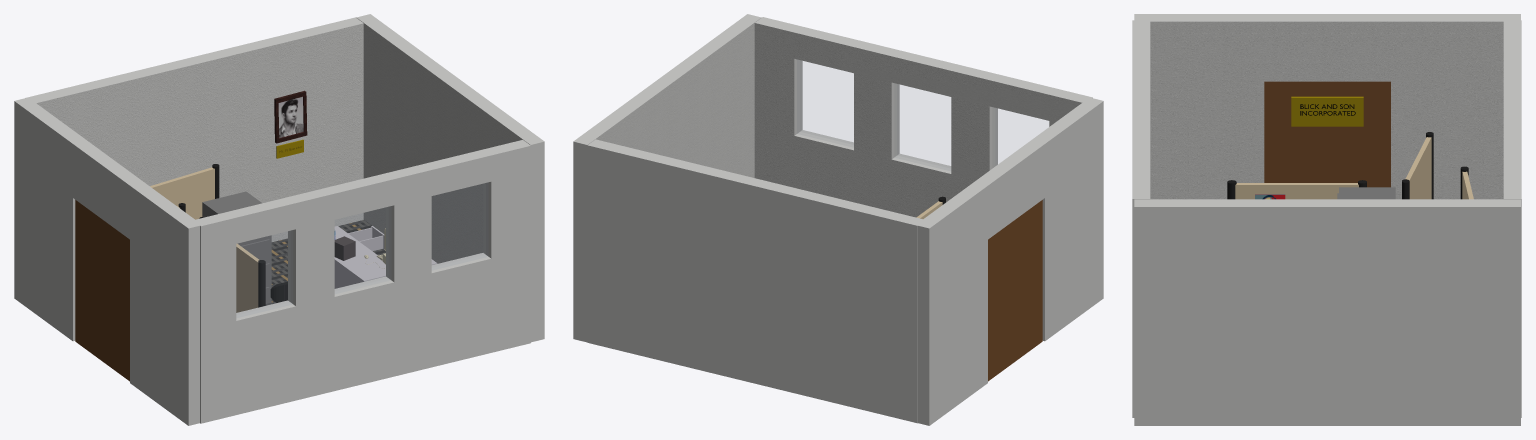
File: 80s_large.fbx
3 views of the same model, side by side, from view 1: azimuth 30°, elevation 25°; view 2: azimuth 150°, elevation 25°; view 3: azimuth 270°, elevation 25° (orthographic). The views are drawn at different scales.
Visible parts, largest first — view 1: concrete_wall80s.left, concrete_wall80s.right, concrete_wall80s.front, concrete_wall80s.back, windows_leftwall80s, front_door80s, openspace_wall80s.002, drawers_shelf80s, openspace_wall80s, desk80s, framed_portrait80s, floor80s (+1 smaller); view 2: concrete_wall80s.right, concrete_wall80s.left, concrete_wall80s.front, concrete_wall80s.back, windows_leftwall80s, front_door80s; view 3: concrete_wall80s.back, concrete_wall80s.front, front_door80s, concrete_wall80s.left, concrete_wall80s.right, frontdoor_plate80s, openspace_wall80s, openspace_wall80s.001, drawers_shelf80s.
Boxes of the visible parts, left/top/right/bottom form: concrete_wall80s.left: left=193, top=140, right=530, bottom=423; concrete_wall80s.right: left=26, top=17, right=363, bottom=242; concrete_wall80s.front: left=14, top=97, right=199, bottom=425; concrete_wall80s.back: left=356, top=14, right=544, bottom=342; windows_leftwall80s: left=237, top=183, right=487, bottom=317; front_door80s: left=75, top=200, right=129, bottom=381; openspace_wall80s.002: left=150, top=164, right=219, bottom=219; drawers_shelf80s: left=202, top=191, right=271, bottom=303; openspace_wall80s: left=199, top=217, right=265, bottom=312; desk80s: left=334, top=226, right=437, bottom=288; framed_portrait80s: left=274, top=90, right=307, bottom=143; floor80s: left=271, top=220, right=385, bottom=302; concrete_wall80s.right: left=587, top=139, right=923, bottom=423; concrete_wall80s.left: left=754, top=17, right=1092, bottom=217; concrete_wall80s.front: left=916, top=98, right=1103, bottom=425; concrete_wall80s.back: left=573, top=14, right=761, bottom=342; windows_leftwall80s: left=797, top=60, right=1048, bottom=169; front_door80s: left=988, top=200, right=1042, bottom=381; concrete_wall80s.back: left=1134, top=199, right=1520, bottom=425; concrete_wall80s.front: left=1134, top=14, right=1520, bottom=199; front_door80s: left=1264, top=81, right=1390, bottom=187; concrete_wall80s.left: left=1132, top=20, right=1150, bottom=417; concrete_wall80s.right: left=1503, top=20, right=1521, bottom=417; frontdoor_plate80s: left=1291, top=96, right=1363, bottom=126; openspace_wall80s: left=1227, top=180, right=1366, bottom=199; openspace_wall80s.001: left=1402, top=132, right=1433, bottom=199; drawers_shelf80s: left=1337, top=187, right=1395, bottom=199.
Bounding box in the file's own units: 755 × 409 × 644.
